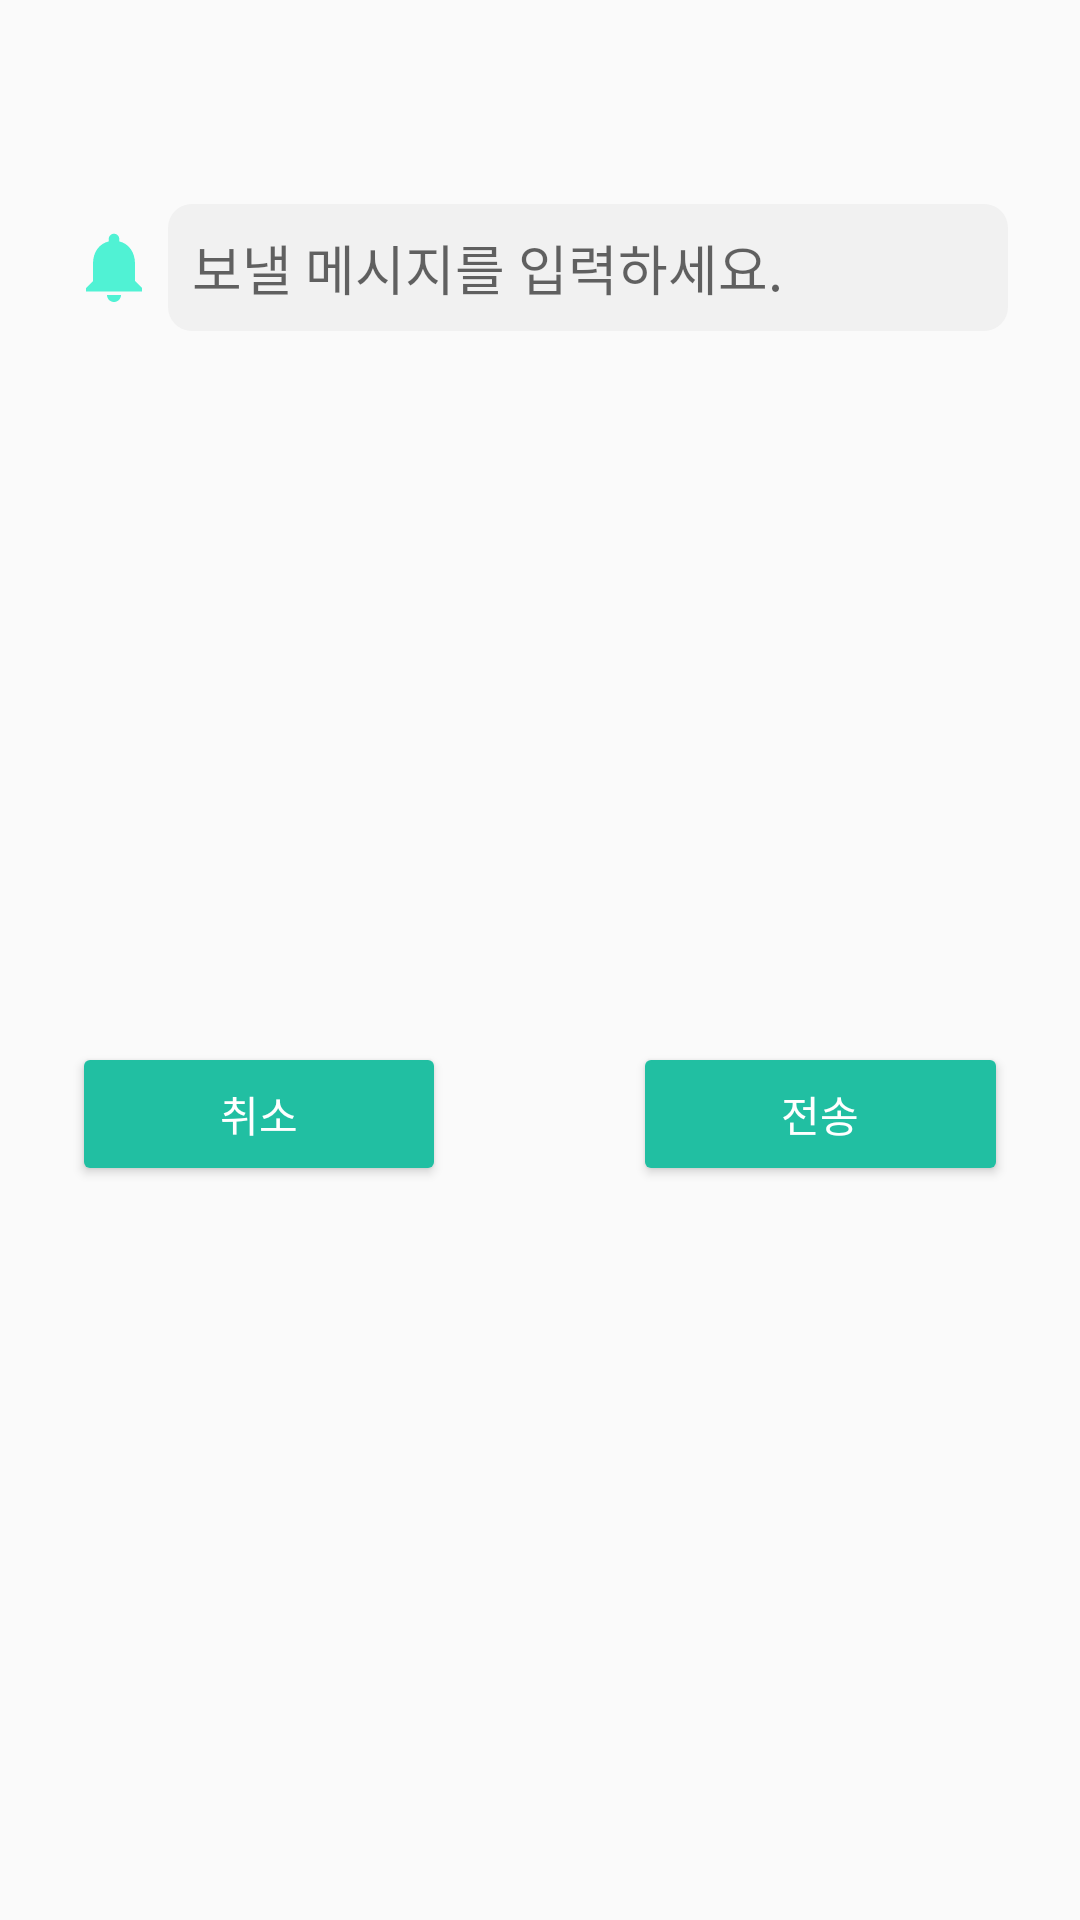

Named icons in this screenshot (1080x1920) and their bounding boxes, (x1, y1, x2, y2):
notification: (86, 233, 142, 302)
